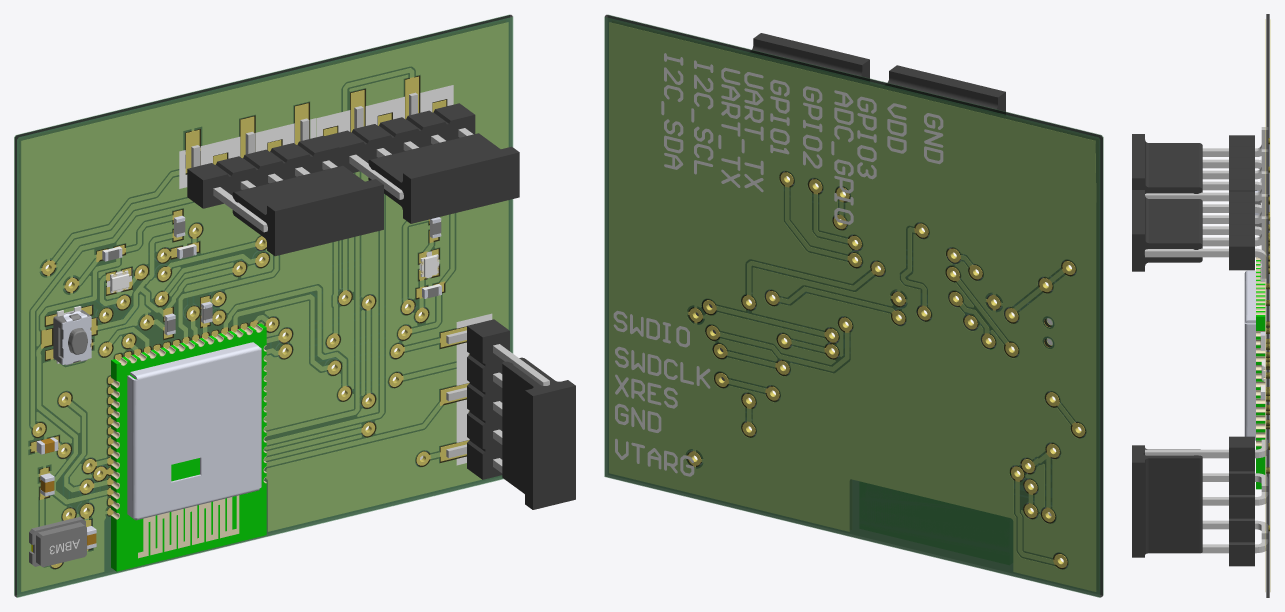
File: PSOC6_models.glb
The picture shows the model from 3 angles, left to right: view 1: azimuth 30°, elevation 25°; view 2: azimuth 150°, elevation 25°; view 3: azimuth 270°, elevation 25°; orthographic projection. The views are drawn at different scales.
Parts seen in each view (by area): view 1: Solder_Top, GND, Core, ComponentBody.47, ComponentBody.48, ComponentBody.42, ComponentBody.30, ComponentBody.27, Top, ComponentBody.40, ComponentBody.49, ComponentBody.28 (+25 smaller); view 2: Solder_Bottom, VTARG, Core, Bottom, Solder_Top, ComponentBody.30, ComponentBody.27, P0_4, GND, GPIO1, GPIO2, I2C_SDA (+6 smaller); view 3: ComponentBody.42, ComponentBody.27, ComponentBody.30, ComponentBody.40, ComponentBody.26, ComponentBody.41, ComponentBody.29, Core, ComponentBody.25, ComponentBody.47, ComponentBody.28, ComponentBody.49 (+3 smaller).
Part boxes in pixels (bbox=[...]): Solder_Top: bbox=[17, 17, 513, 597]; GND: bbox=[21, 22, 508, 591]; Core: bbox=[14, 14, 512, 597]; ComponentBody.47: bbox=[127, 342, 261, 520]; ComponentBody.48: bbox=[111, 323, 266, 571]; ComponentBody.42: bbox=[502, 357, 575, 509]; ComponentBody.30: bbox=[232, 165, 383, 256]; ComponentBody.27: bbox=[368, 133, 519, 223]; Top: bbox=[64, 85, 492, 465]; ComponentBody.40: bbox=[467, 319, 509, 479]; ComponentBody.49: bbox=[111, 324, 266, 558]; ComponentBody.28: bbox=[187, 135, 339, 208]; Solder_Bottom: bbox=[604, 16, 1100, 597]; VTARG: bbox=[609, 22, 1095, 591]; Core: bbox=[605, 14, 1102, 597]; Bottom: bbox=[613, 53, 943, 476]; Solder_Top: bbox=[608, 14, 1103, 595]; ComponentBody.30: bbox=[887, 65, 1005, 111]; ComponentBody.27: bbox=[752, 33, 869, 78]; P0_4: bbox=[742, 261, 1015, 436]; GND: bbox=[687, 173, 1075, 568]; GPIO1: bbox=[780, 171, 995, 347]; GPIO2: bbox=[809, 178, 1018, 356]; I2C_SDA: bbox=[705, 317, 852, 371]; ComponentBody.42: bbox=[1132, 445, 1202, 557]; ComponentBody.27: bbox=[1132, 190, 1202, 271]; ComponentBody.30: bbox=[1132, 134, 1202, 193]; ComponentBody.40: bbox=[1229, 436, 1254, 566]; ComponentBody.26: bbox=[1145, 194, 1268, 278]; ComponentBody.41: bbox=[1145, 439, 1268, 553]; ComponentBody.29: bbox=[1145, 127, 1268, 201]; Core: bbox=[1266, 14, 1269, 597]; ComponentBody.25: bbox=[1229, 191, 1254, 270]; ComponentBody.47: bbox=[1244, 270, 1255, 440]; ComponentBody.28: bbox=[1229, 135, 1254, 191]; ComponentBody.49: bbox=[1256, 257, 1265, 446].
Bounding box in the file's own units: 4.63 × 4.11 × 1.35.
